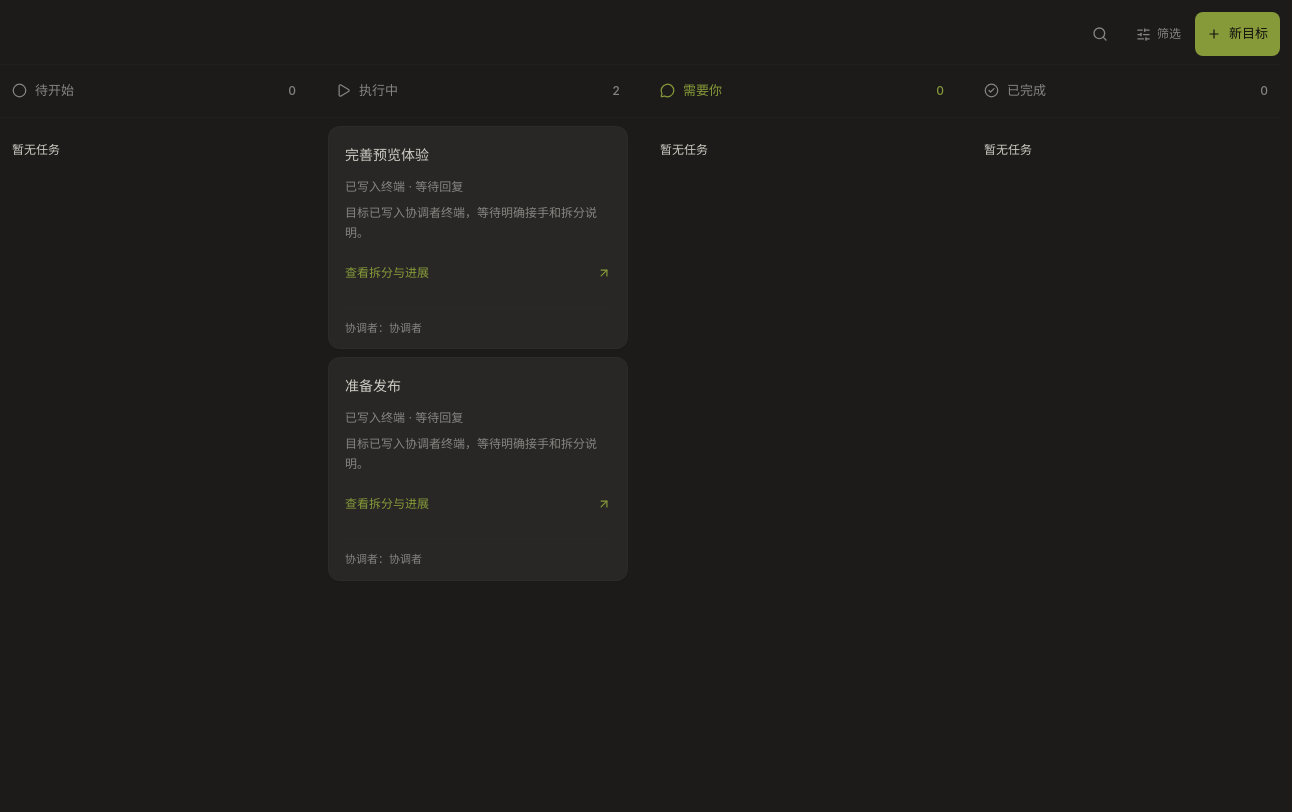
Test: primary kanban journeys › searches only when requested and restores the complete board when search is closed
Click the button named "搜索任务": {"x": 1100, "y": 34} [1078, 12, 1122, 56]
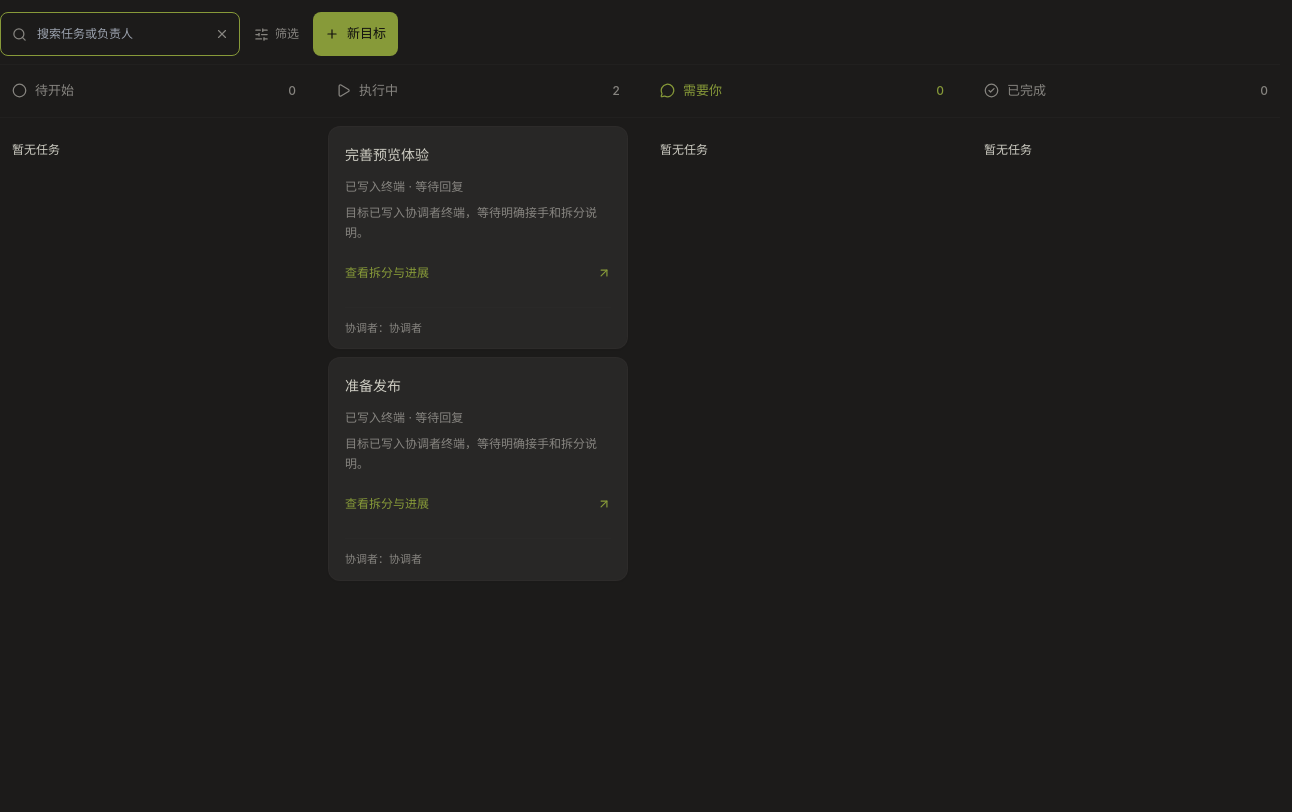
In the search field labelled "搜索任务": {"x": 120, "y": 34} [0, 12, 240, 56], type "准备发布"
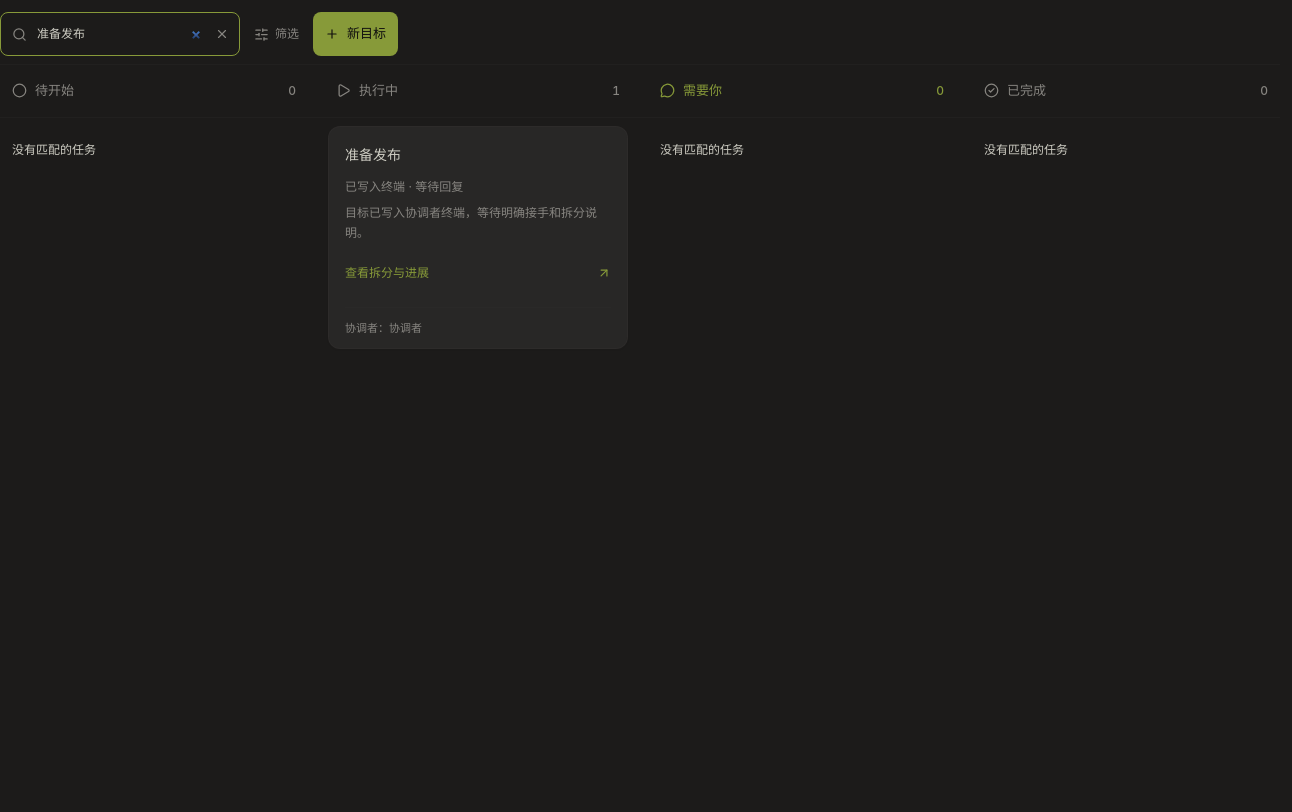
Now the button "完善预览体验" is gone
Click the button named "关闭搜索": {"x": 222, "y": 34} [204, 12, 240, 56]
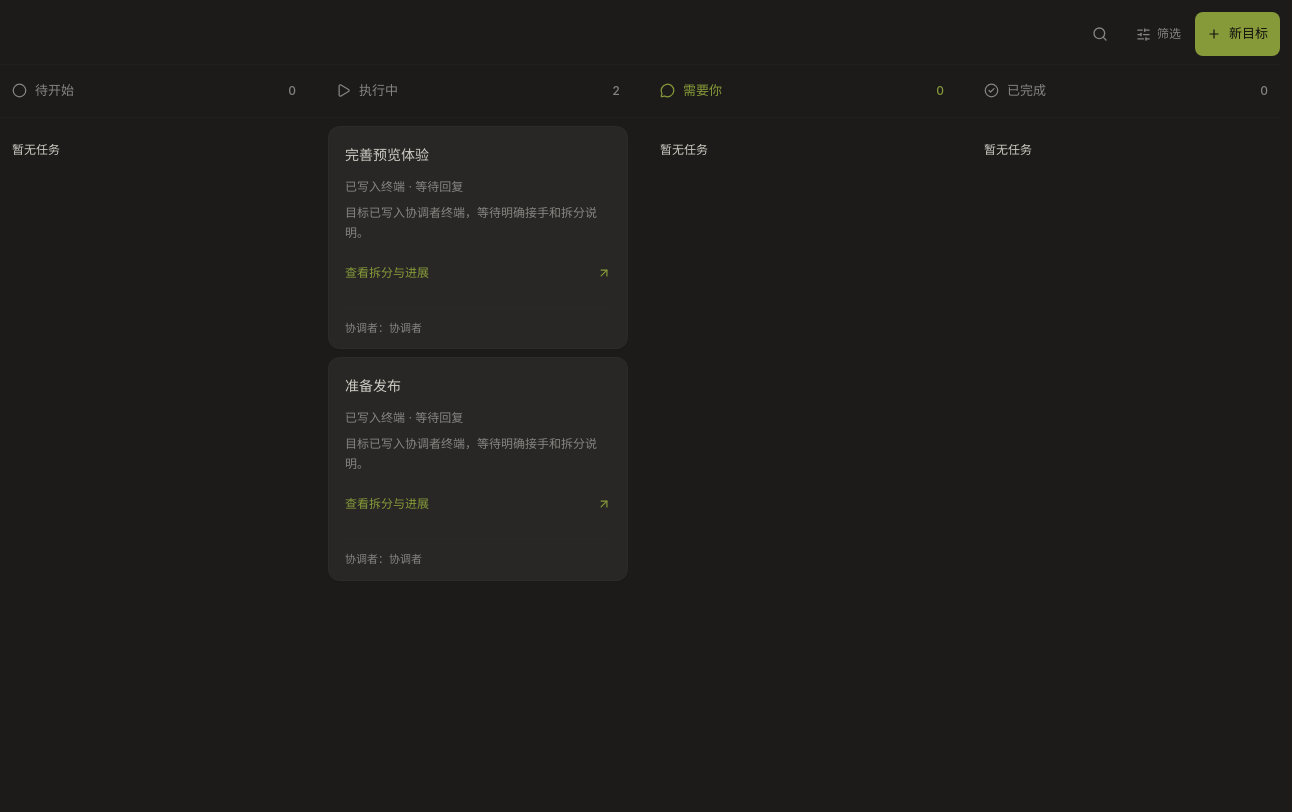
Expected: the button "准备发布 已写入终端 · 等待回复 目标已写入协调者终端，等待明确接手和拆分说明。 查看拆分与进展" is shown, [329, 358, 627, 538]
Now the button "完善预览体验 已写入终端 · 等待回复 目标已写入协调者终端，等待明确接手和拆分说明。 查看拆分与进展" is shown, box [329, 126, 627, 306]
